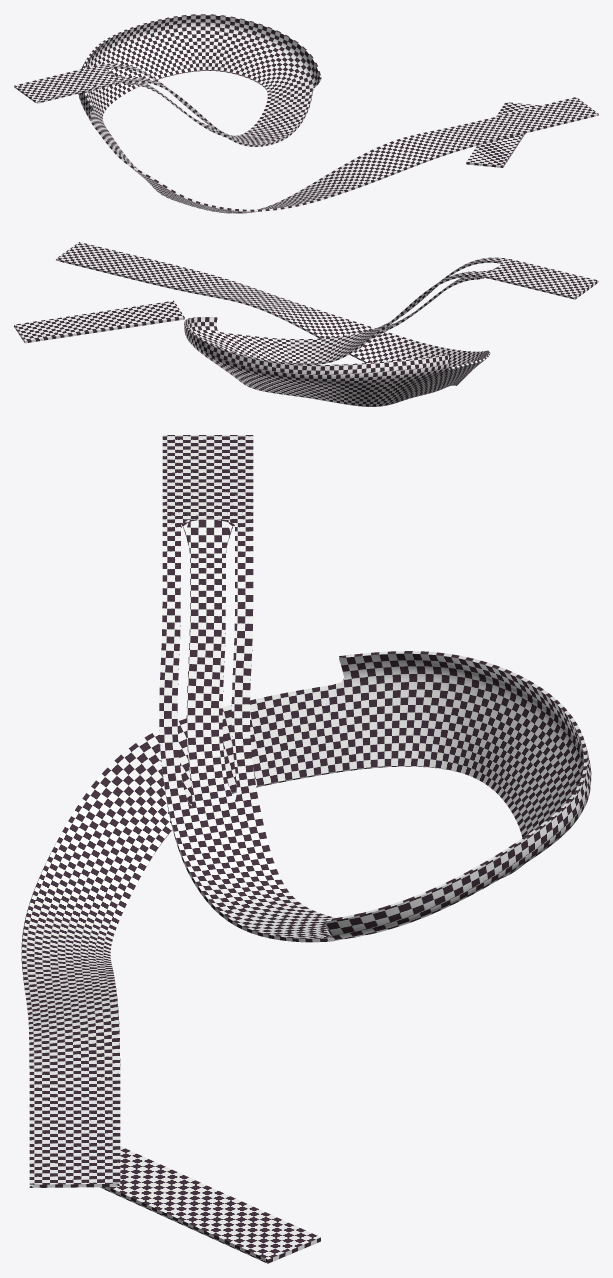
Rendered from A1_map_4.fbx.
3 views of the same model, one above another, from view 1: azimuth 30°, elevation 25°; view 2: azimuth 150°, elevation 25°; view 3: azimuth 270°, elevation 25° (orthographic). The views are drawn at different scales.
Visible parts, largest first — view 1: A1_0, A1_1; view 2: A1_0, A1_1; view 3: A1_0, A1_1.
Boxes of the visible parts, x1,y1,x2,y2 form: A1_0: [14, 14, 598, 213]; A1_1: [466, 102, 539, 167]; A1_0: [56, 242, 598, 406]; A1_1: [14, 300, 184, 343]; A1_0: [21, 435, 591, 1187]; A1_1: [100, 1146, 320, 1263].
Size of the model in its own units: 10551 by 2939 by 4894.
